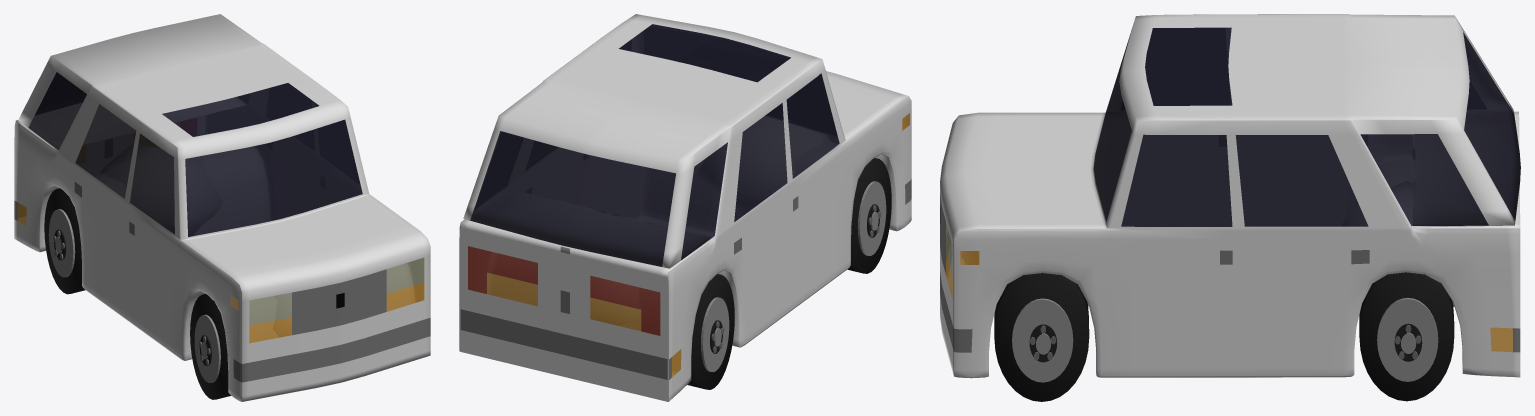
File: car3wagonwhite.fbx
3 views of the same model, side by side, from view 1: azimuth 30°, elevation 25°; view 2: azimuth 150°, elevation 25°; view 3: azimuth 270°, elevation 25° (orthographic). The views are drawn at different scales.
Visible parts, largest first — view 1: Car2, LugNut.001, LugNut.002; view 2: Car2, LugNut.002, LugNut.001; view 3: Car2, LugNut.004, LugNut.003.
Part boxes in pixels (<box>): Car2: <box>14,14,430,401</box>; LugNut.001: <box>190,294,231,399</box>; LugNut.002: <box>44,188,85,294</box>; Car2: <box>459,14,911,401</box>; LugNut.002: <box>687,274,734,389</box>; LugNut.001: <box>847,158,891,273</box>; Car2: <box>940,14,1520,378</box>; LugNut.004: <box>994,273,1089,401</box>; LugNut.003: <box>1359,272,1454,401</box>.
Bounding box in the file's own units: 187 × 204 × 385.
